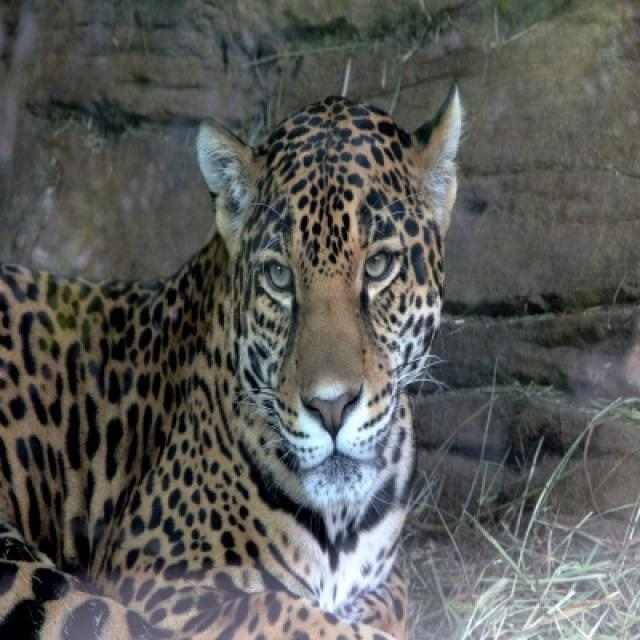Jaguar: (0, 83, 466, 638)
